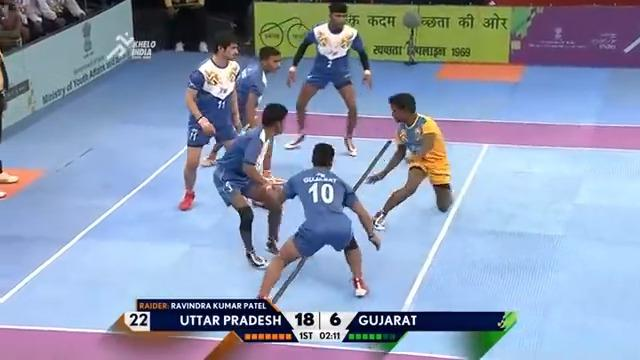Player: (256, 141, 381, 305), (283, 2, 372, 156), (212, 102, 288, 269), (178, 30, 243, 211), (200, 45, 282, 166)
Raider: (364, 92, 453, 230)
referee: (0, 49, 19, 185)
